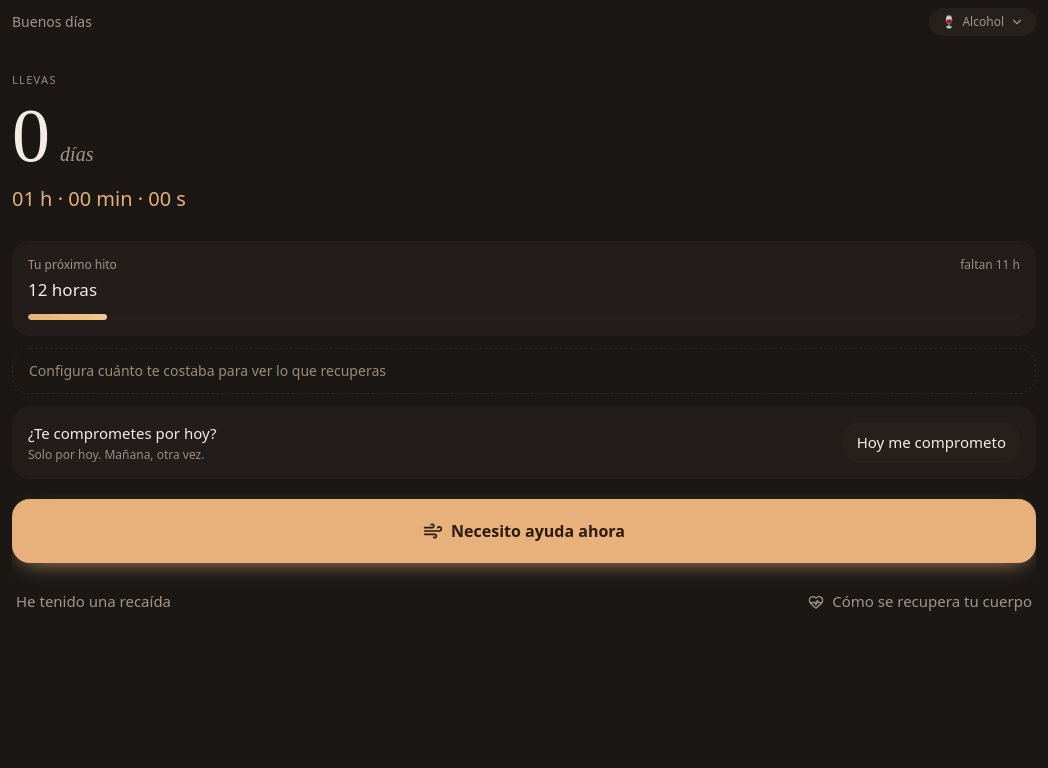
Scenario: Dashboard › lets the user make the daily pledge
Click the button "Hoy me comprometo" at point(931, 443), box left=843, top=422, right=1020, bottom=463
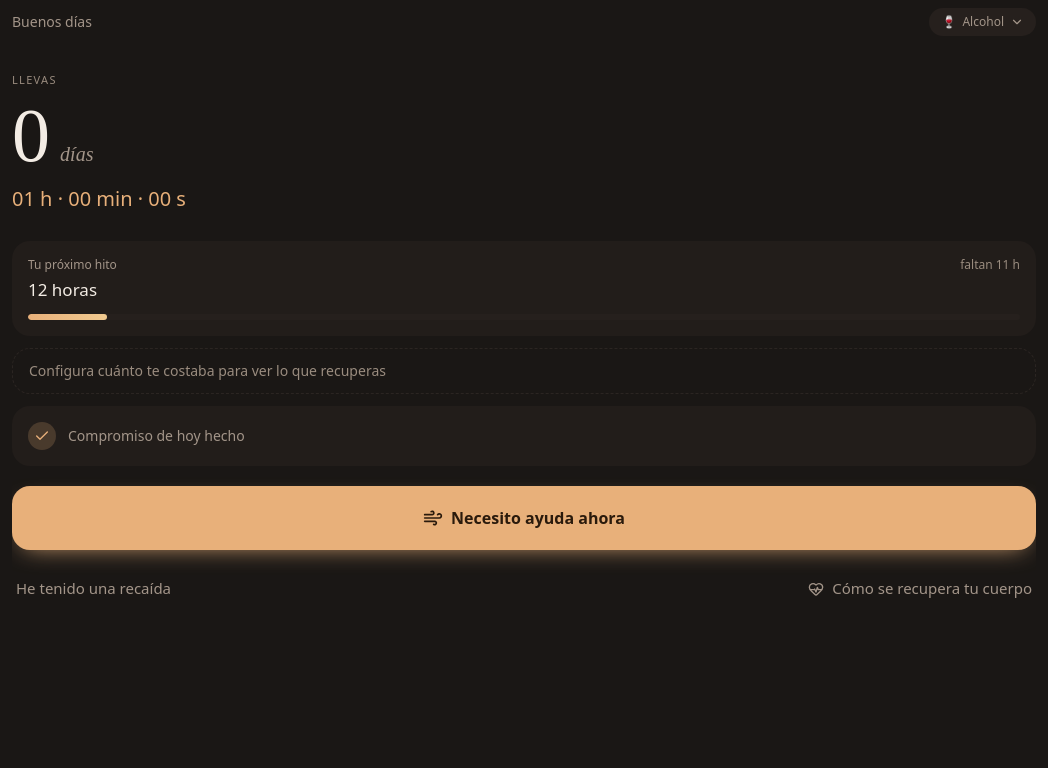
Check: the text "Compromiso de hoy hecho" is shown, box left=12, top=406, right=1036, bottom=466
